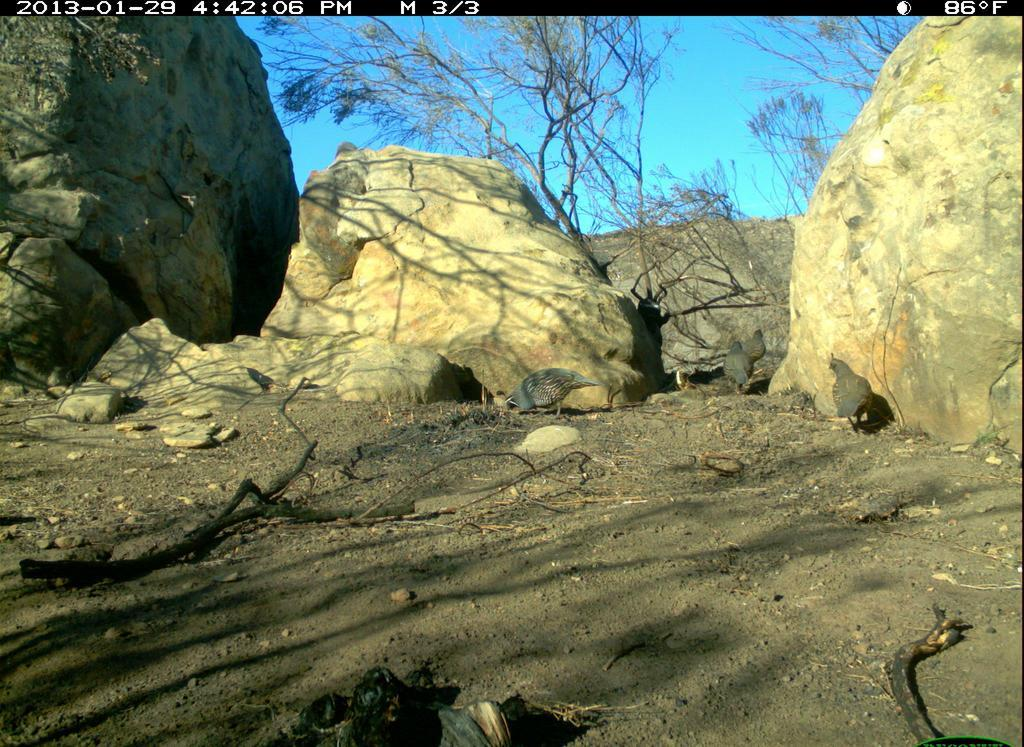bird: (495, 361, 607, 423), (823, 350, 883, 440), (723, 340, 756, 397), (743, 329, 768, 366)
